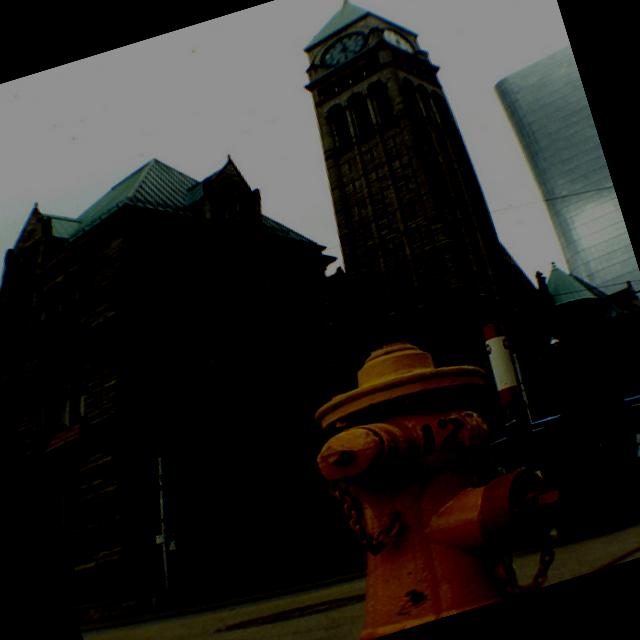Vehicle: (482, 376, 640, 535)
